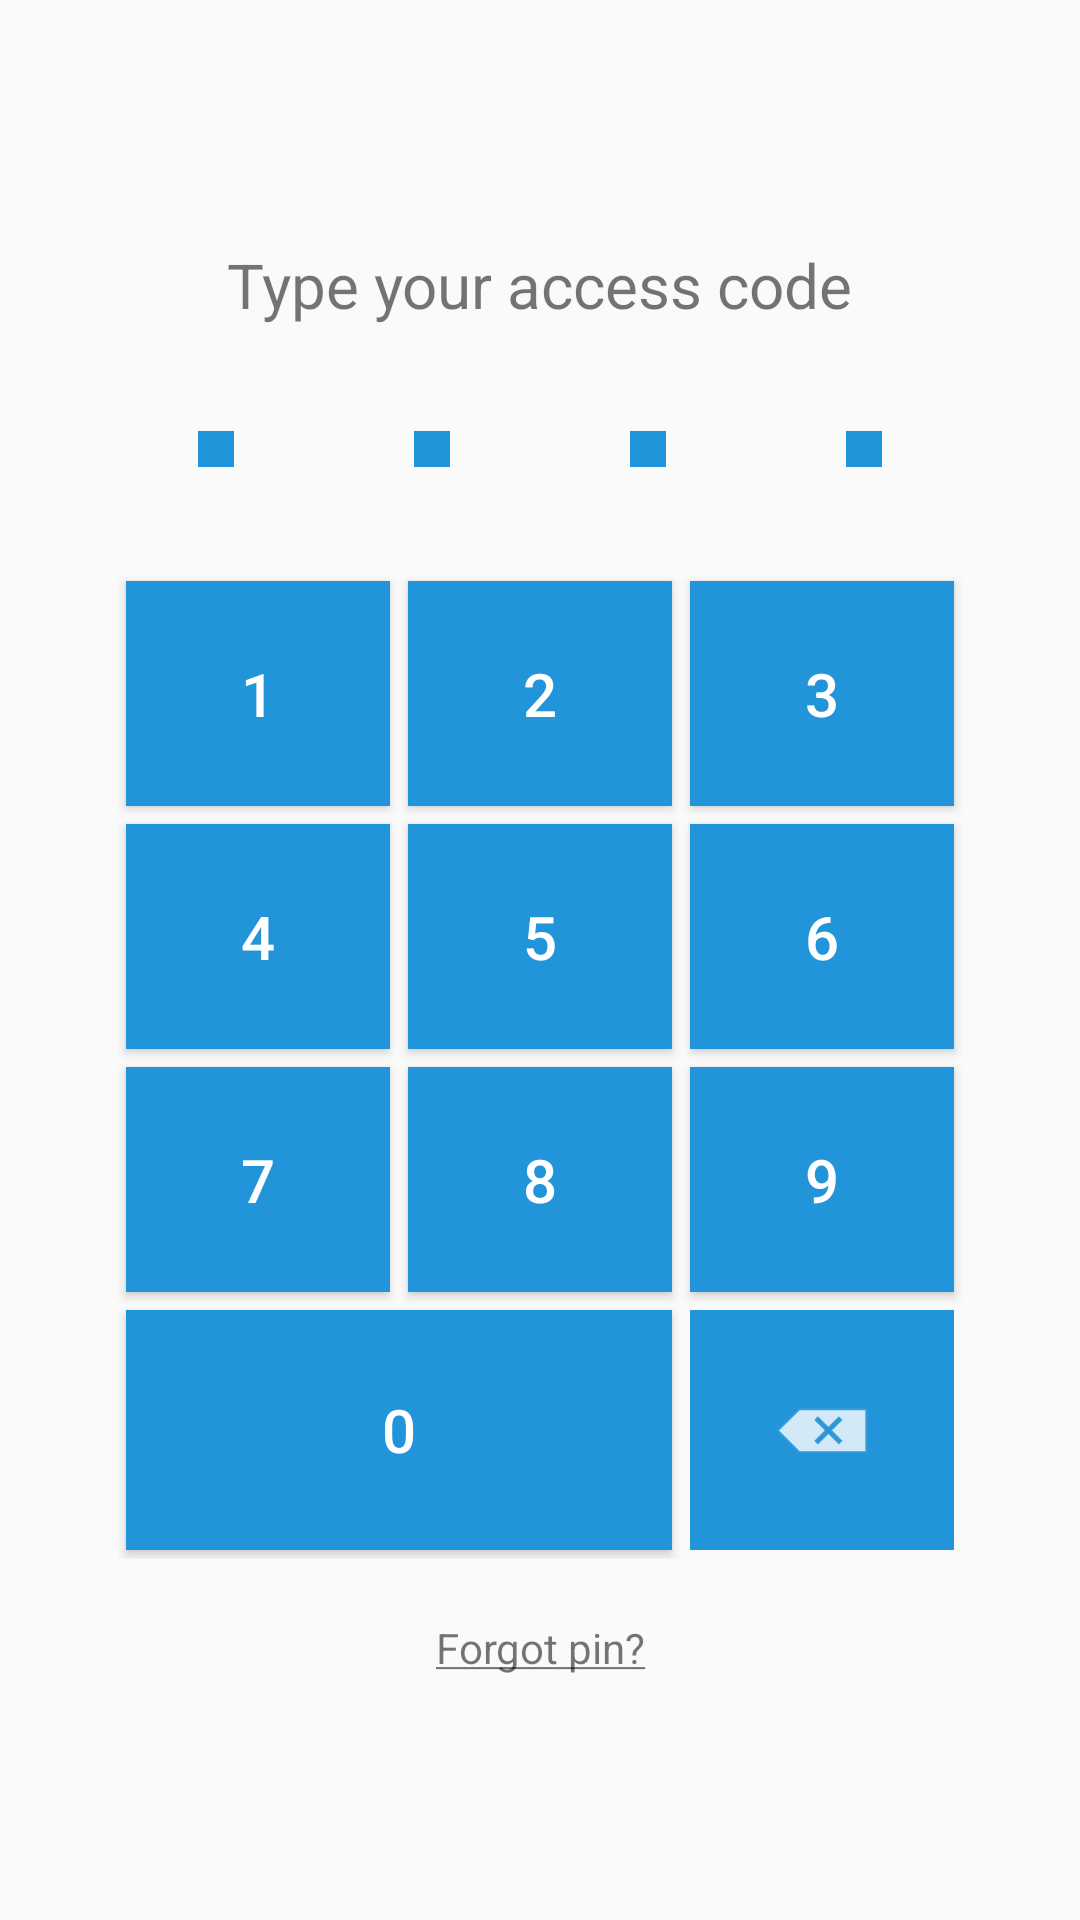

Icon bounding boxes for this 1080 × 1920 phone screenshot, format (x1, y1, x2, y2):
delete: (690, 1310, 954, 1550)
